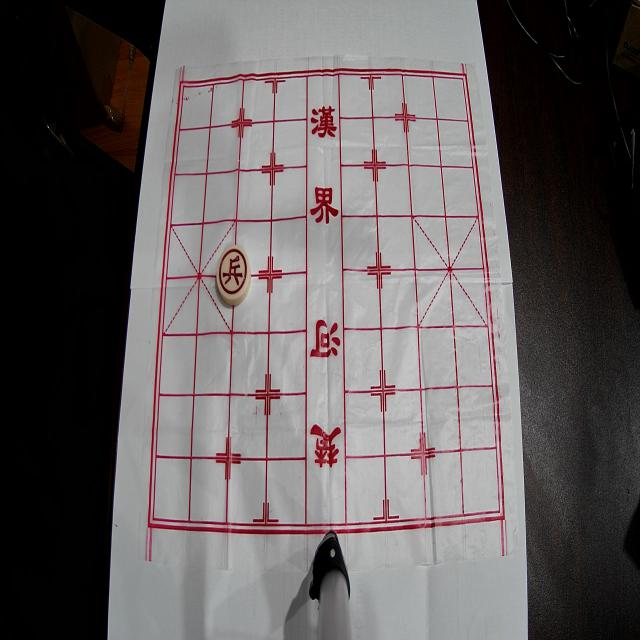red-soldier: (217, 245, 250, 305)
